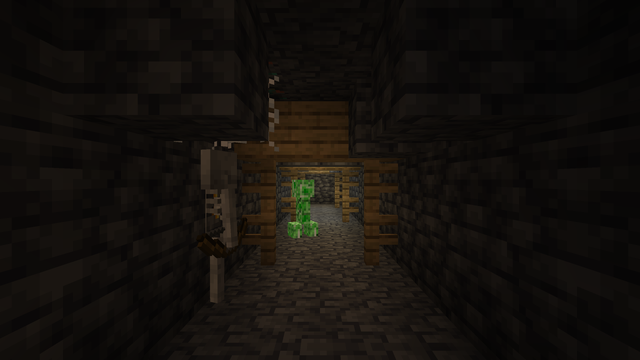creepers: (291, 177, 312, 237)
squelettes: (198, 150, 238, 309)
